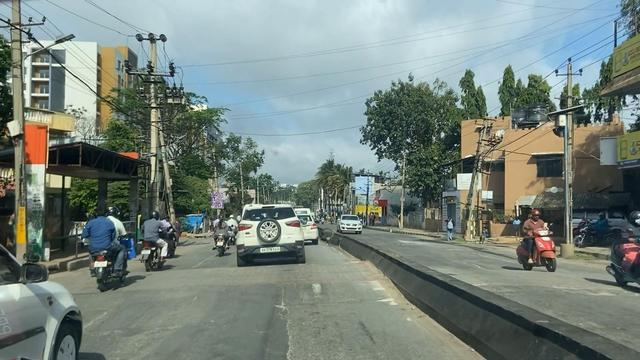LMV: (236, 204, 302, 262), (86, 203, 129, 288), (144, 211, 167, 270), (212, 215, 225, 254)
RoadDamages: (272, 285, 296, 360), (82, 303, 115, 333)
SpeedBump: (124, 264, 407, 302)
